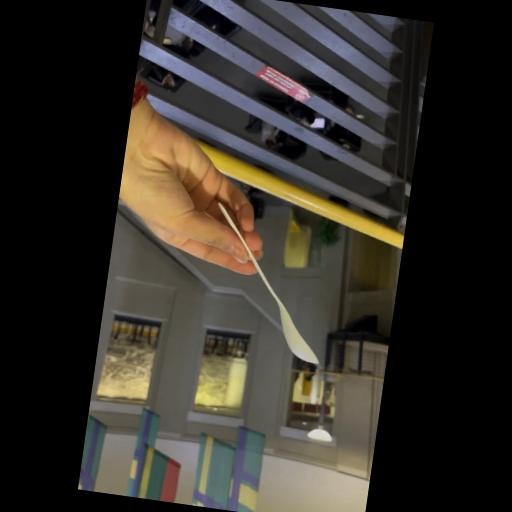utensil: (196, 178, 344, 378)
